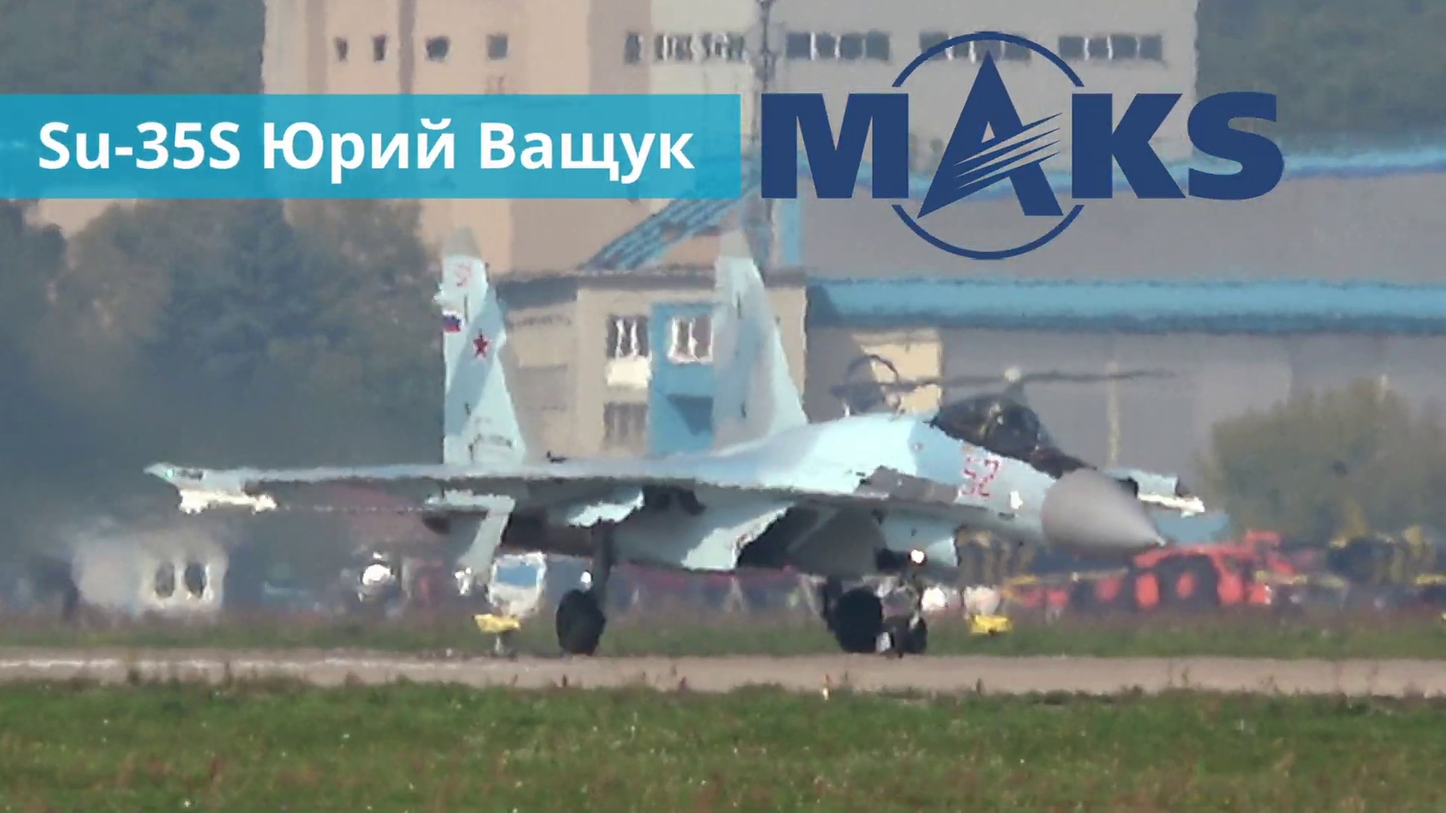Su35: (141, 216, 1208, 654)
